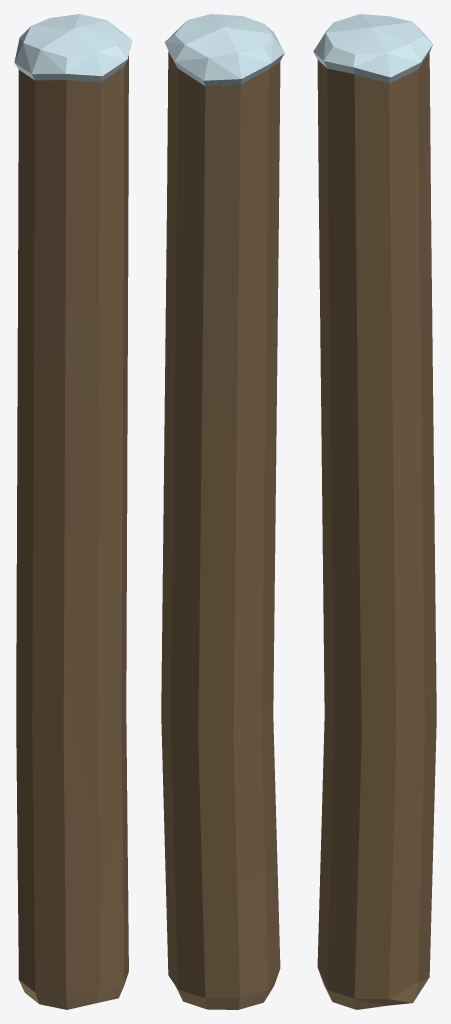
File: Palo_Muelle01.glb
3 views of the same model, side by side, from view 1: azimuth 90°, elevation 25°; view 2: azimuth 150°, elevation 25°; view 3: azimuth 330°, elevation 25° (orthographic).
Parts seen in each view (by area): view 1: SM_Prop_Dock_Pole_01_Snow; view 2: SM_Prop_Dock_Pole_01_Snow; view 3: SM_Prop_Dock_Pole_01_Snow.
Boxes of the visible parts, left/top/right/bottom form: SM_Prop_Dock_Pole_01_Snow: left=14, top=14, right=132, bottom=1009; SM_Prop_Dock_Pole_01_Snow: left=161, top=14, right=284, bottom=1009; SM_Prop_Dock_Pole_01_Snow: left=313, top=14, right=436, bottom=1009.
Bounding box in the file's own units: 0.5098 × 4.48 × 0.4955.
1 material, 1 textured.
